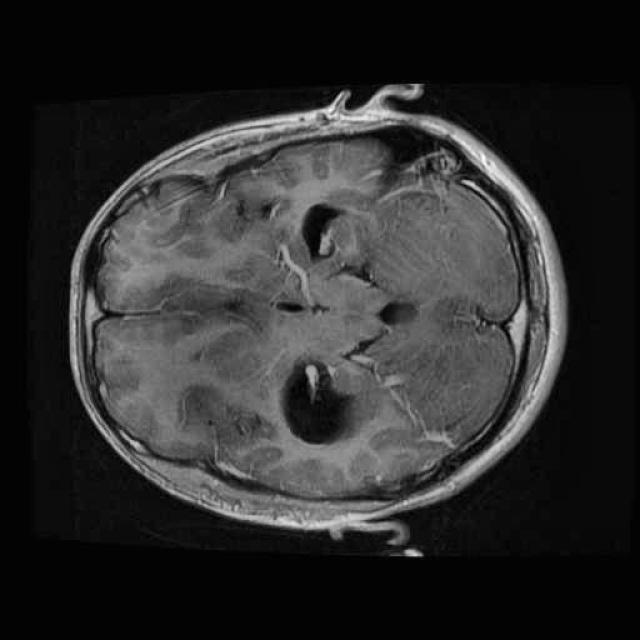Non-Tumor: (268, 342, 366, 462)
